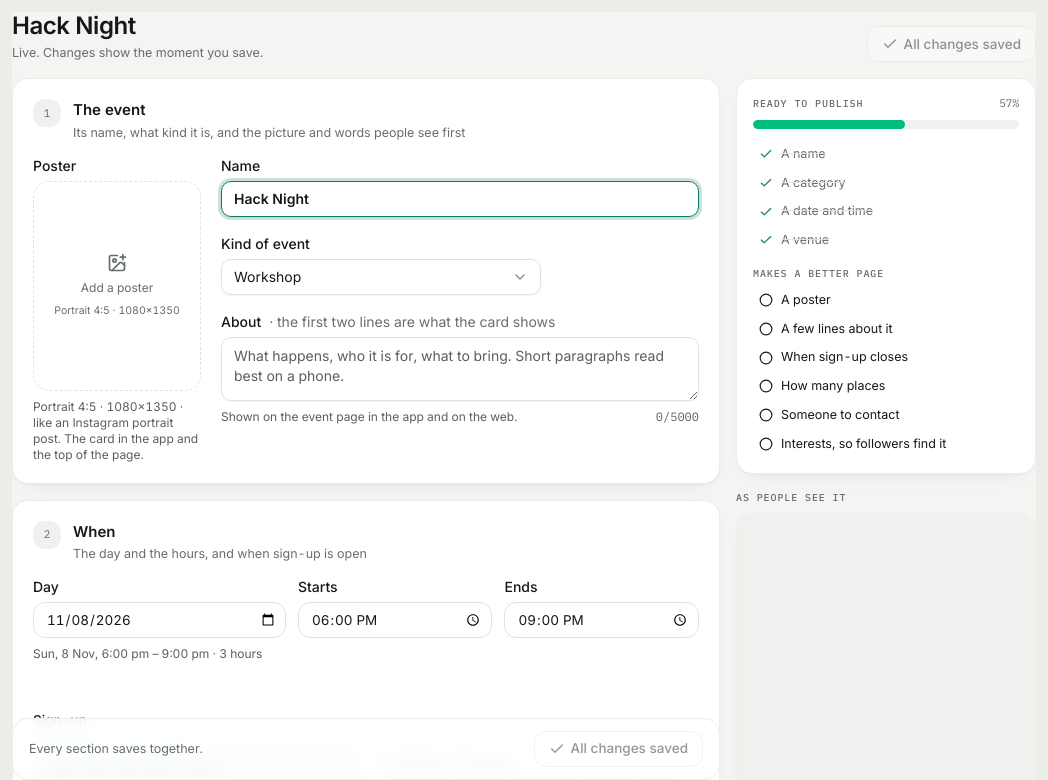
saving an edit to an event › is one quiet, disabled button until something changes, then one primary button, top and bottom
This screenshot has width=1048, height=780.
Expected: the number of buttons "All changes saved" is 2, [867,26,1036,62]; [534,731,703,767]
Expected: the button "All changes saved" in the row of "Live. Changes show the moment you save." is disabled, [867,26,1036,62]
Replace the text in the field named "name" with "Hack Night 2" at [460, 199], box [221,181,699,217]
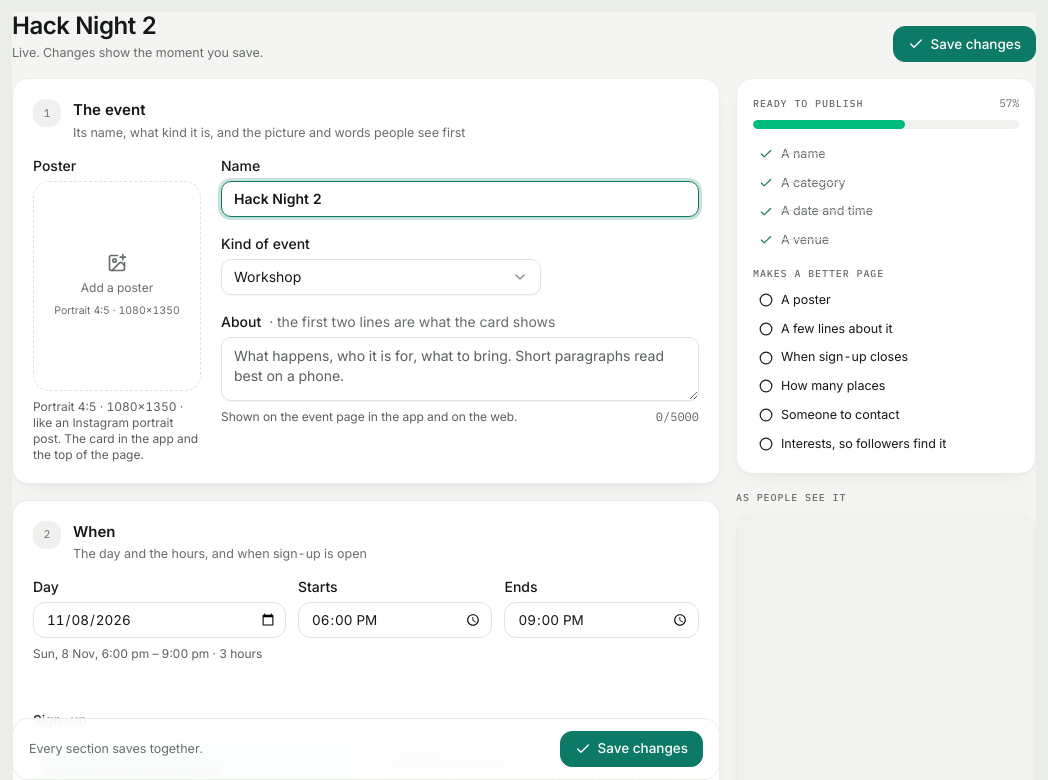
Expected: the number of buttons "Save changes" is 2, [894,26,1036,62]; [560,731,703,767]
Expected: the button "Save changes" in the row of "Live. Changes show the moment you save." is enabled, [894,26,1036,62]
Expected: the button "Save changes" in the row of "Every section saves together." is enabled, [560,731,703,767]
